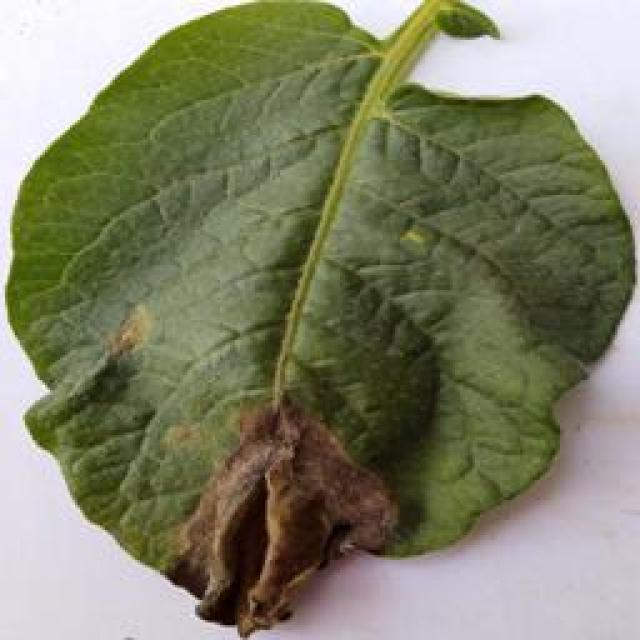Potato_Late_Blight: (8, 9, 634, 634)
